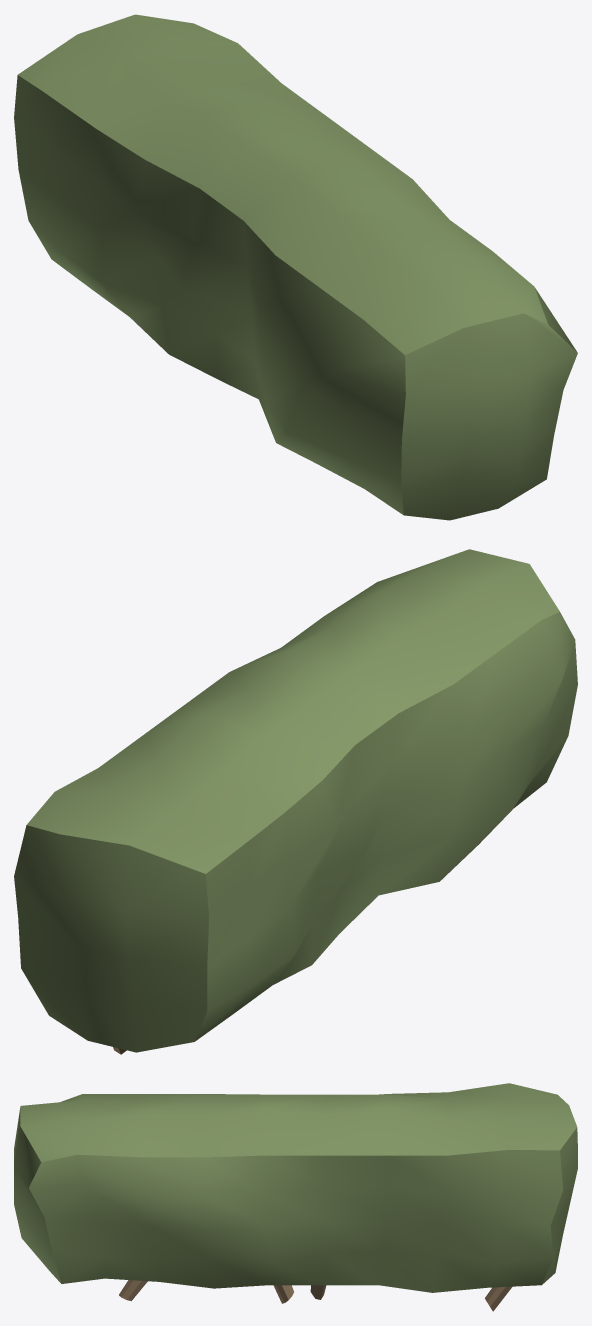
Rendered from hedge02.fbx.
3 renders of one model, top to bottom at view 1: azimuth 30°, elevation 25°; view 2: azimuth 150°, elevation 25°; view 3: azimuth 270°, elevation 25°, orthographic. The views are drawn at different scales.
Parts seen in each view (by area): view 1: hedgeleaves02; view 2: hedgeleaves02; view 3: hedgeleaves02, hedgeBranch07, hedgeBranch04.
Part boxes in pixels (left/top/right/bottom): hedgeleaves02: left=14, top=14, right=577, bottom=520; hedgeleaves02: left=14, top=549, right=577, bottom=1052; hedgeleaves02: left=14, top=1083, right=577, bottom=1292; hedgeBranch07: left=485, top=1286, right=512, bottom=1311; hedgeBranch04: left=119, top=1280, right=147, bottom=1301.
Size of the model in its own units: 0.6948 by 0.8076 by 2.06.
